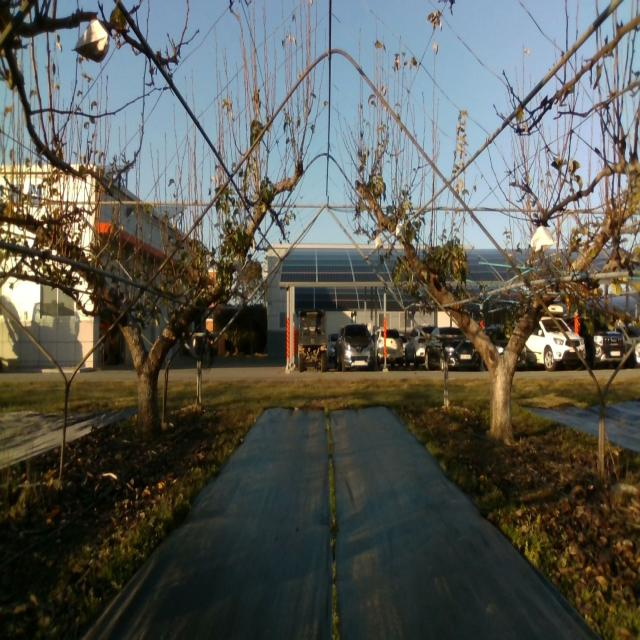pearbags: (70, 17, 110, 63), (530, 225, 554, 253)
